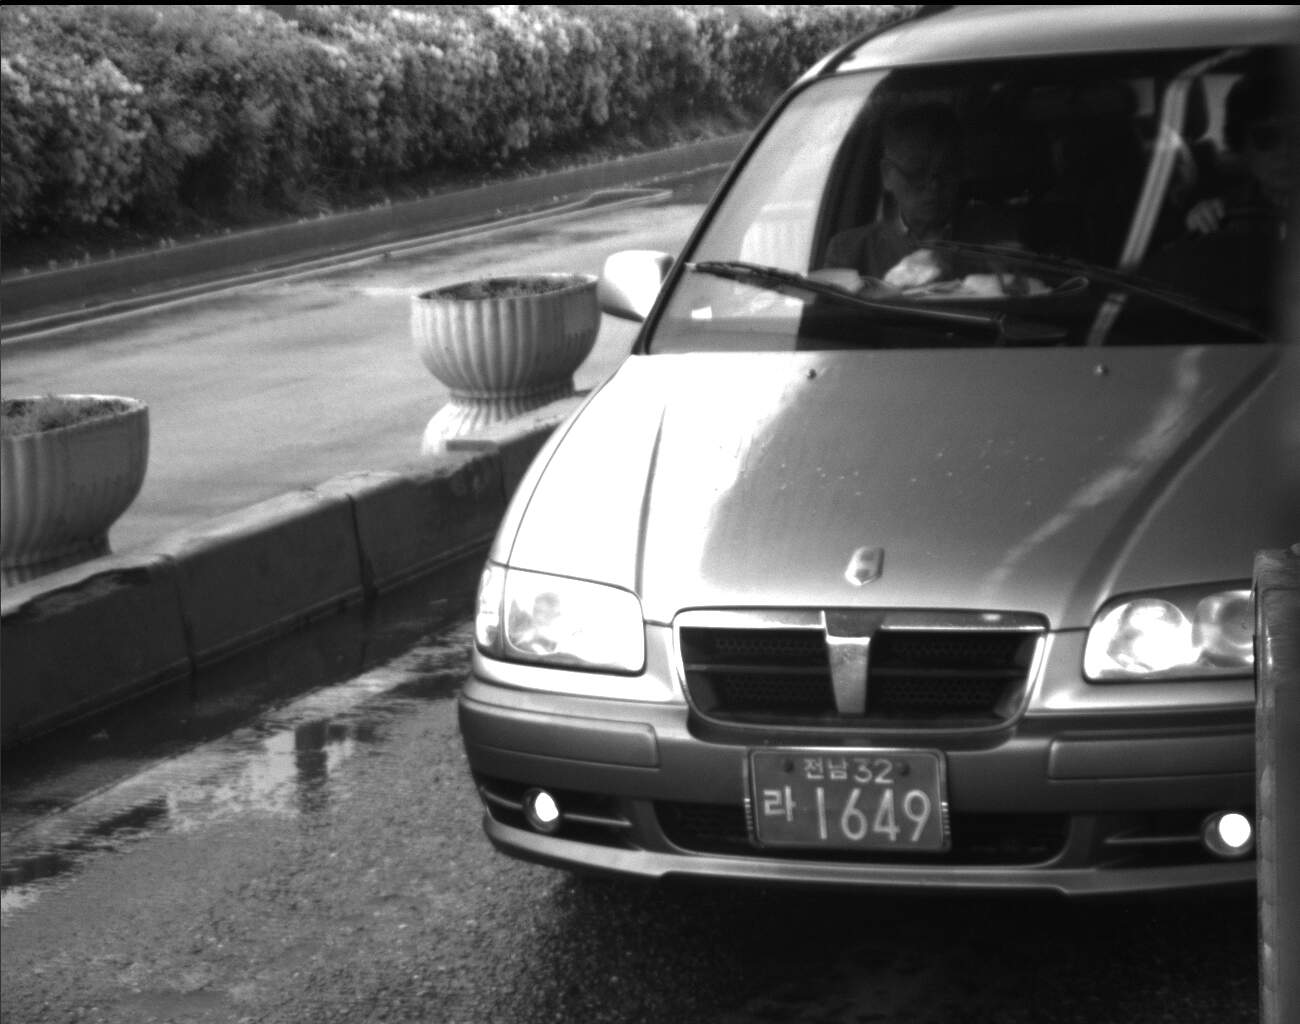car: (459, 7, 1297, 899)
plate: (743, 747, 952, 853)
